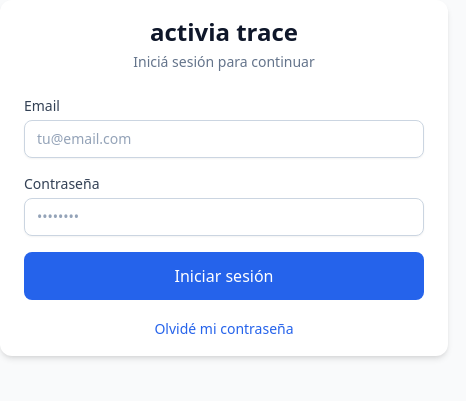
Test: LoginPage › shows validation error for invalid email
Check: the button "Iniciar sesión" is shown, box [24,252,424,300]
Type "invalid-email" into the field labelled "Email".
click(224, 139); type("invalid-email")  # box [24,120,424,158]
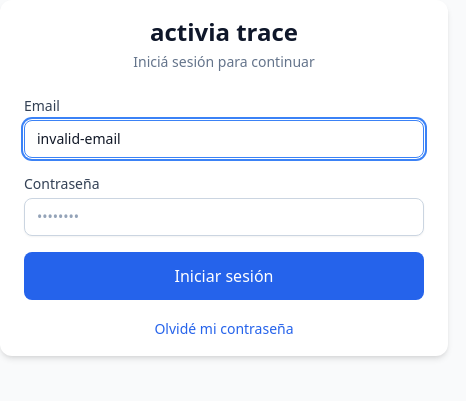
Type "password123" into the password field labelled "Contraseña".
click(224, 217); type("password123")  # box [24,198,424,236]
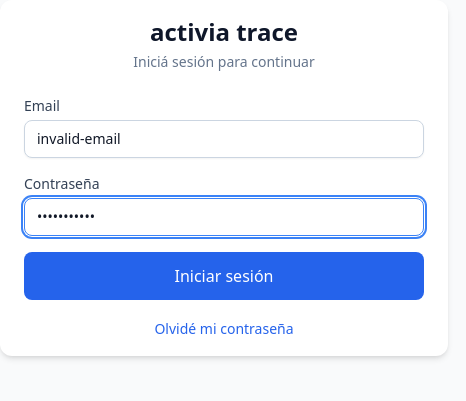
Click the button "Iniciar sesión".
click(224, 276)  # box [24,252,424,300]
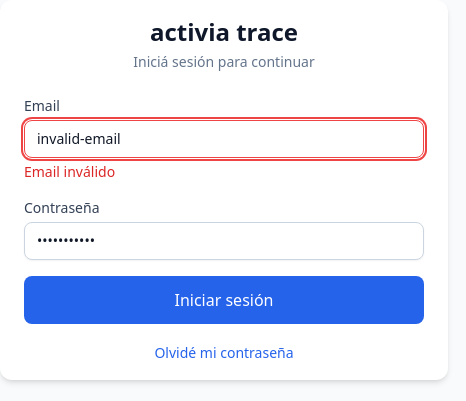
Check: the text "Email inválido" is shown, box [24,162,115,181]
